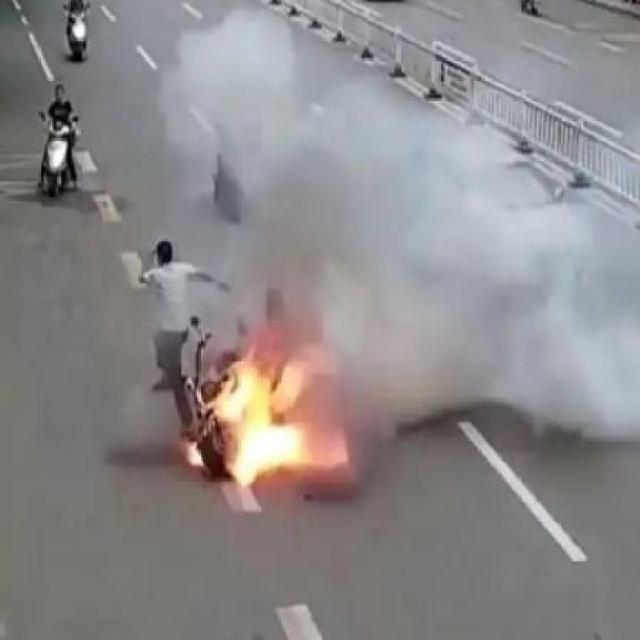Fire: (214, 358, 306, 486)
Smoke: (280, 99, 616, 433), (162, 9, 296, 169)
